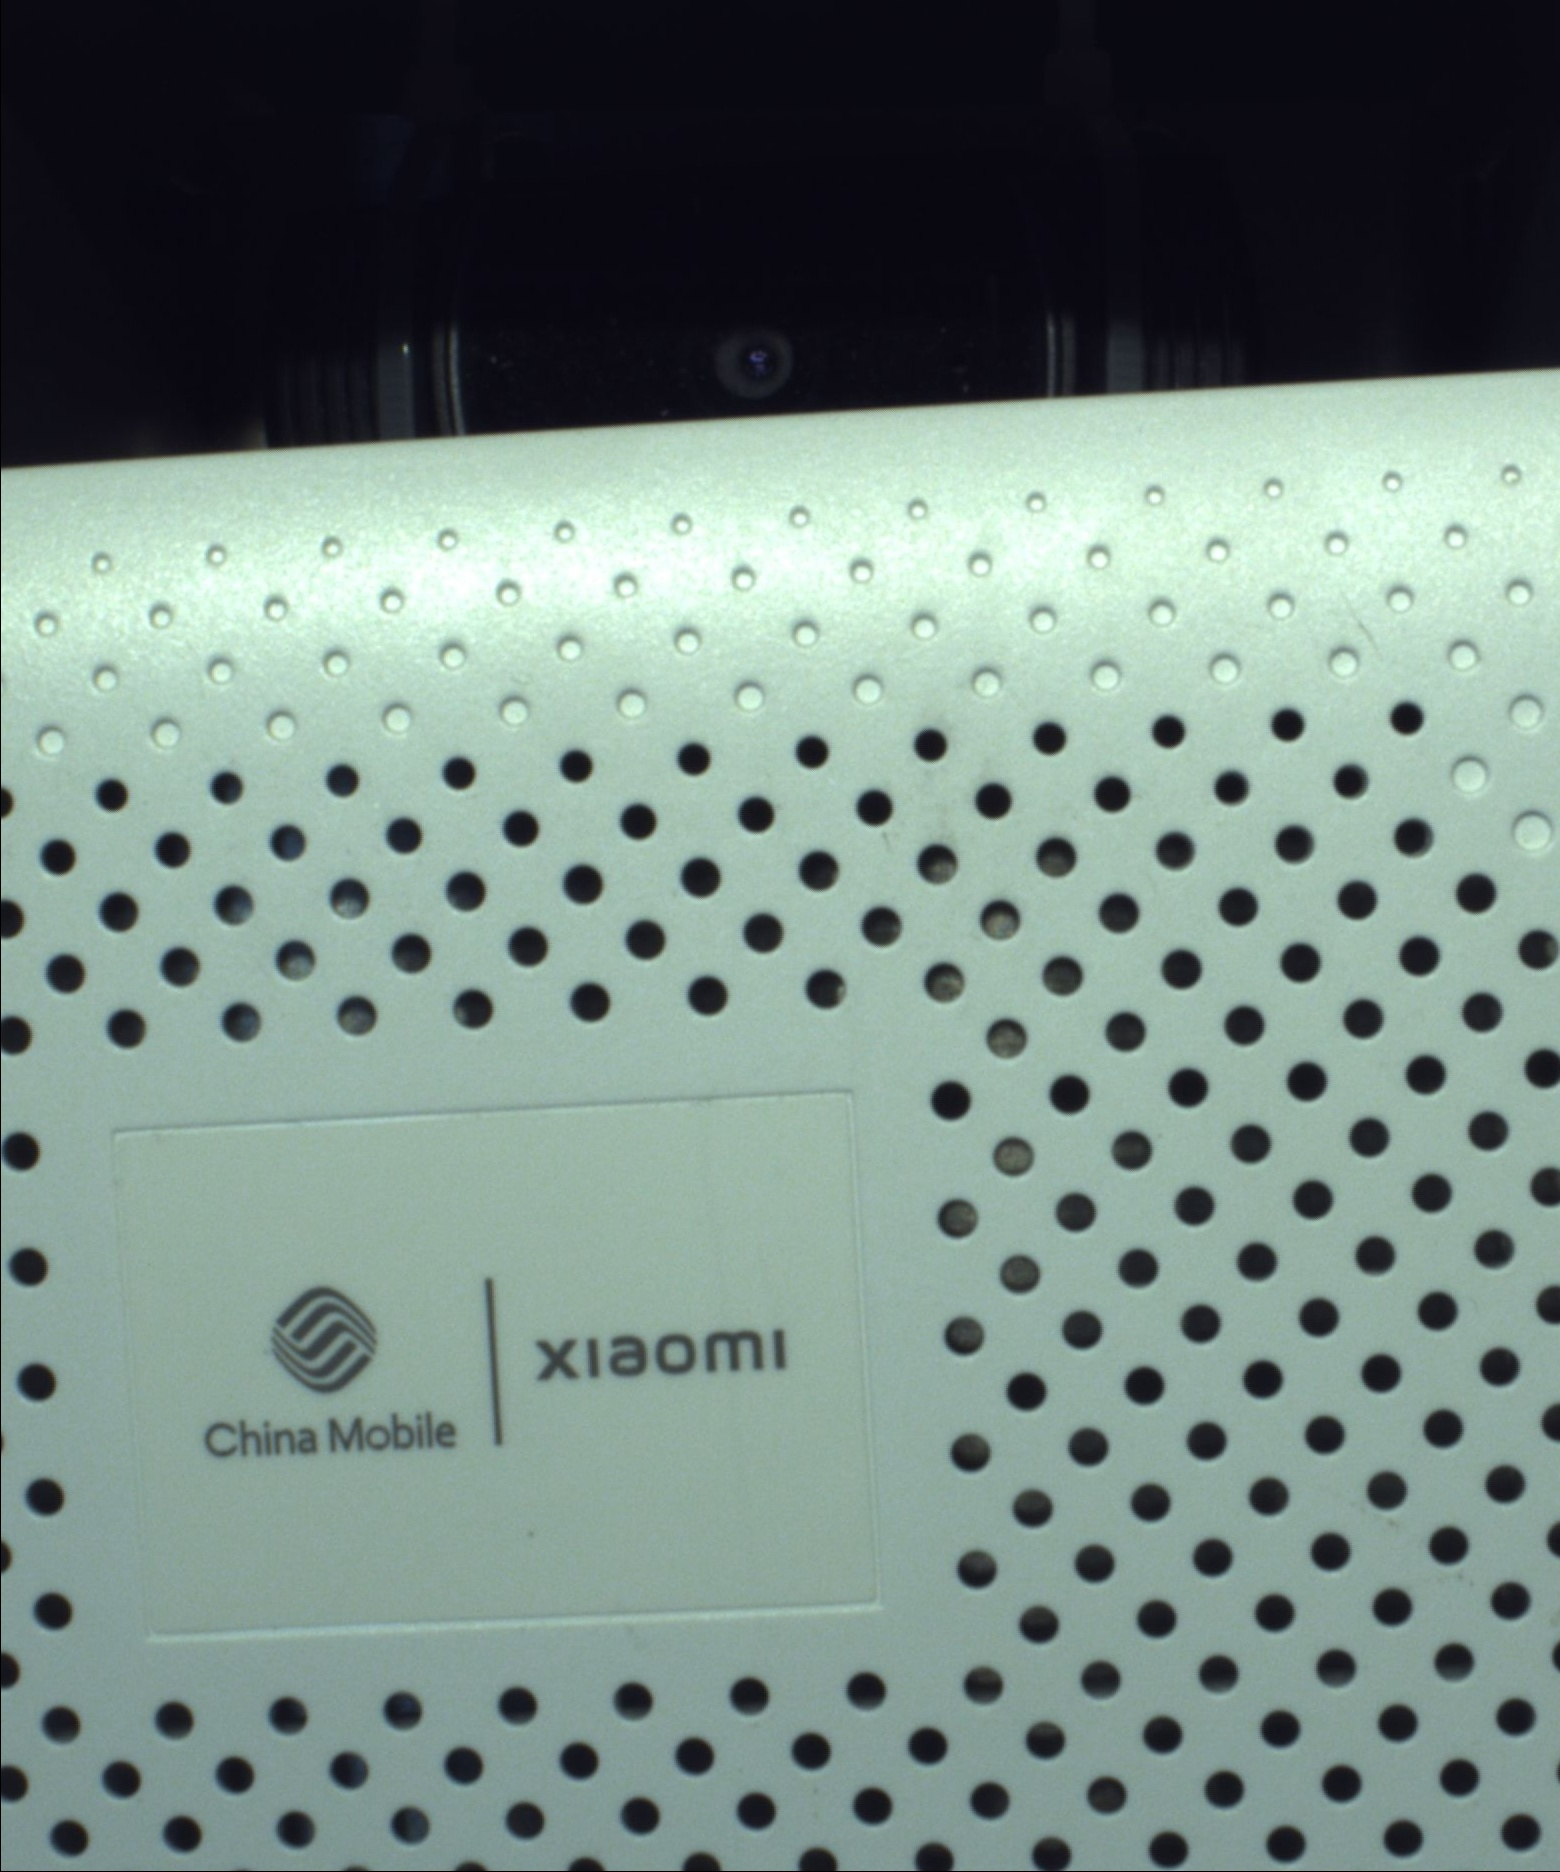MAD_ChinaMobile: (193, 1277, 796, 1466)
